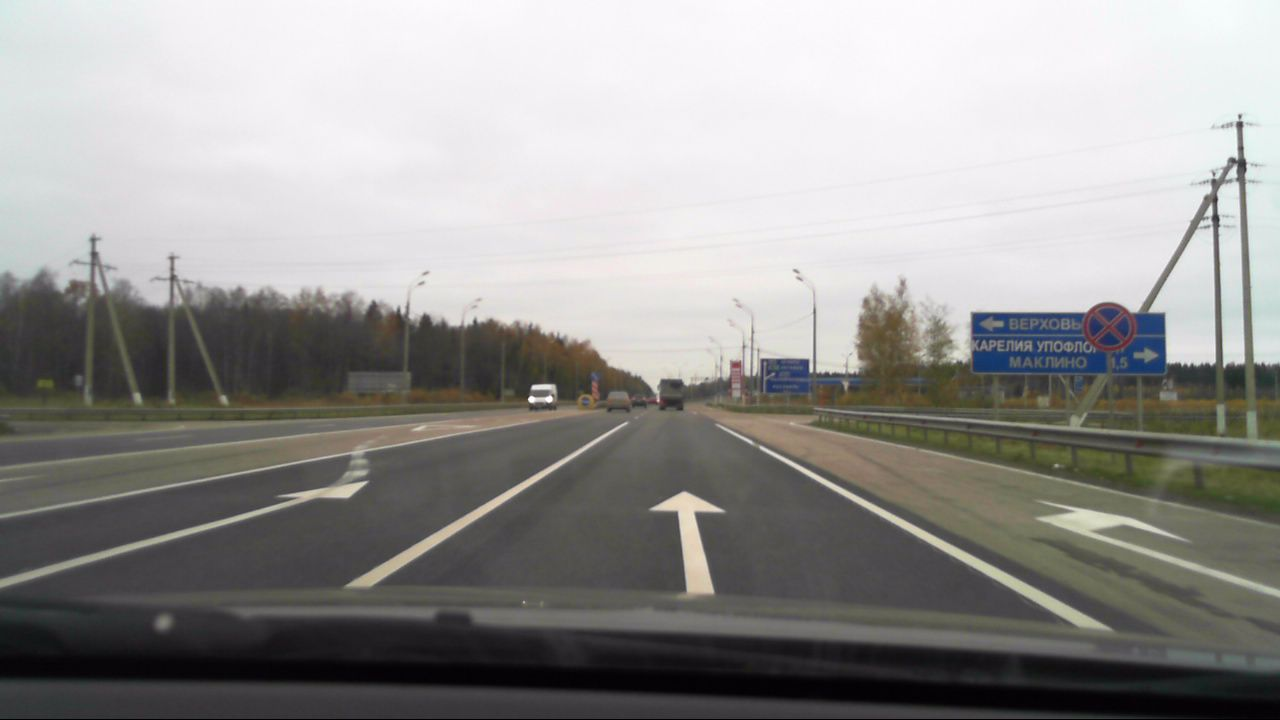No Parking: (1081, 300, 1137, 354)
